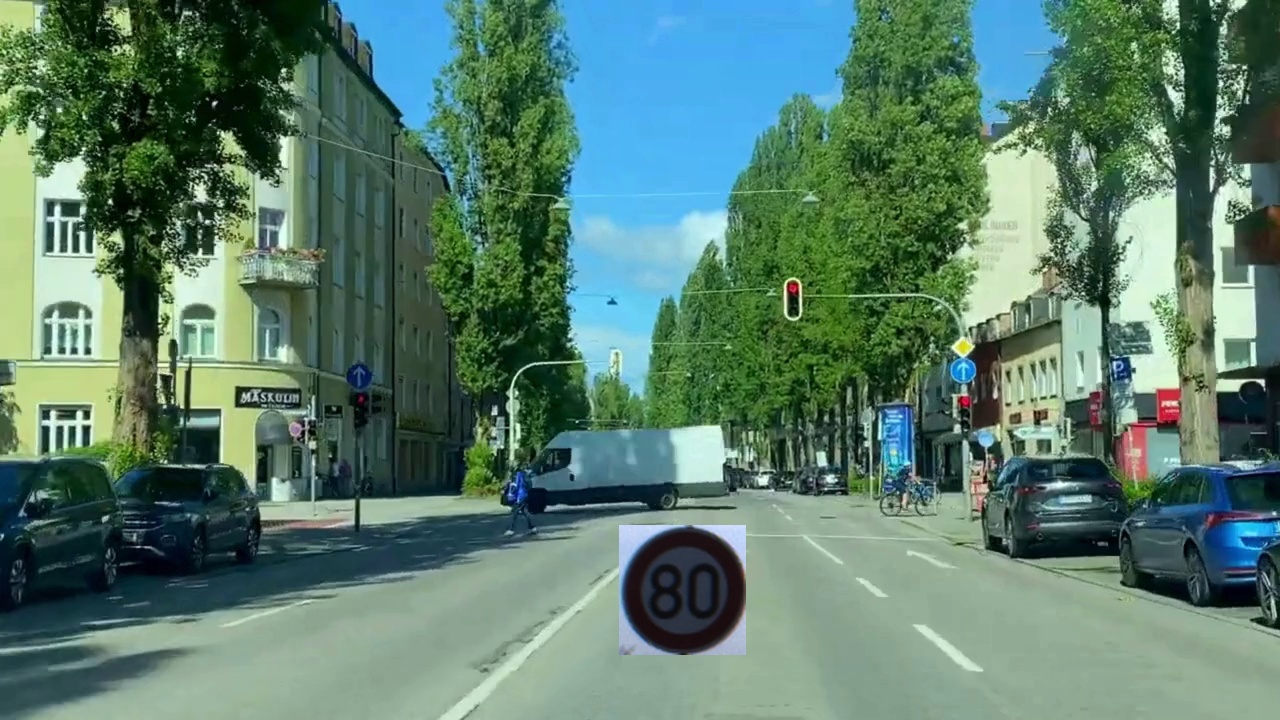Speed 80: (619, 525, 746, 655)
